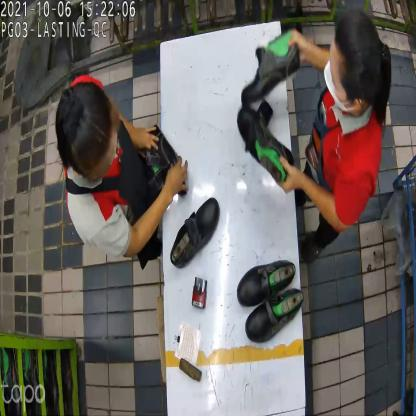shoes: (143, 122, 219, 266), (236, 25, 300, 186), (236, 259, 302, 346)
stamp: (252, 98, 276, 134), (189, 277, 210, 312)
